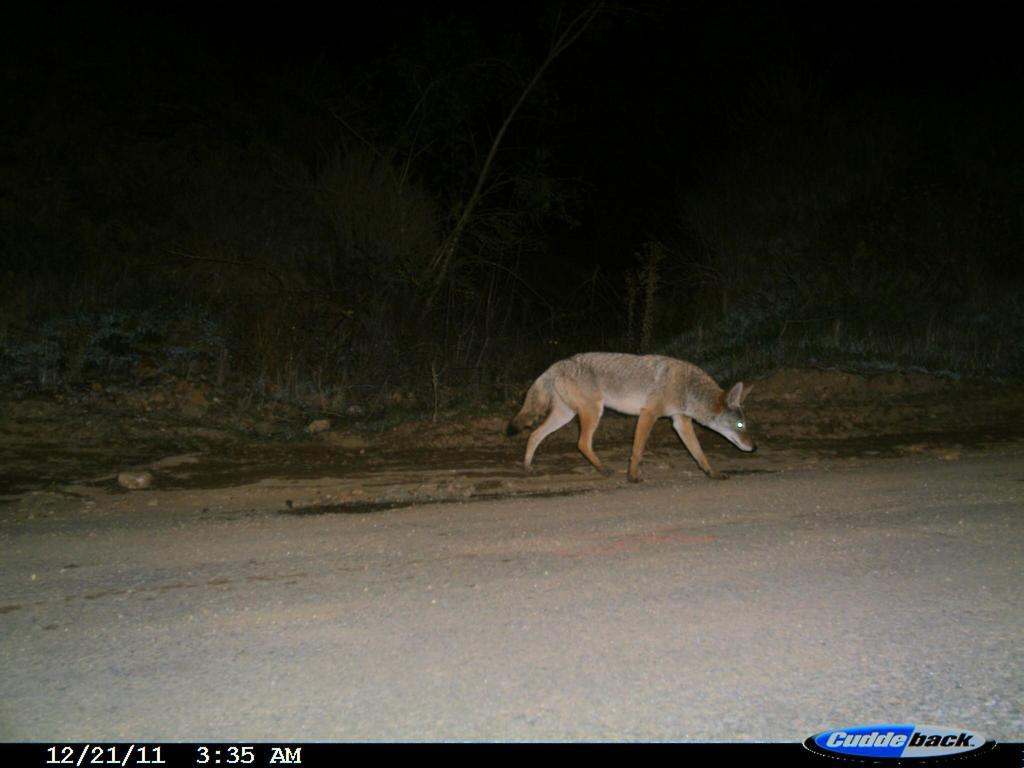coyote: (495, 337, 763, 491)
